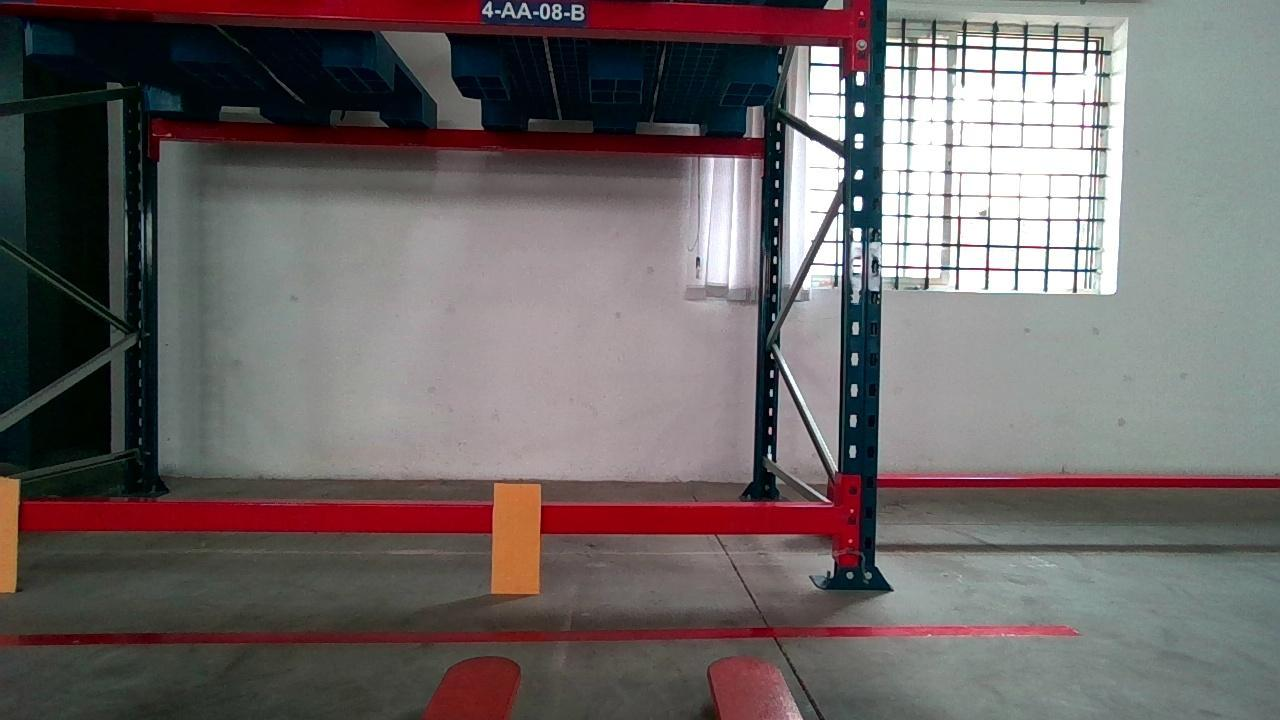h_rack: (20, 499, 845, 534), (10, 3, 850, 35)
orange_strip: (496, 483, 543, 594)
red_line: (0, 622, 1081, 649)
